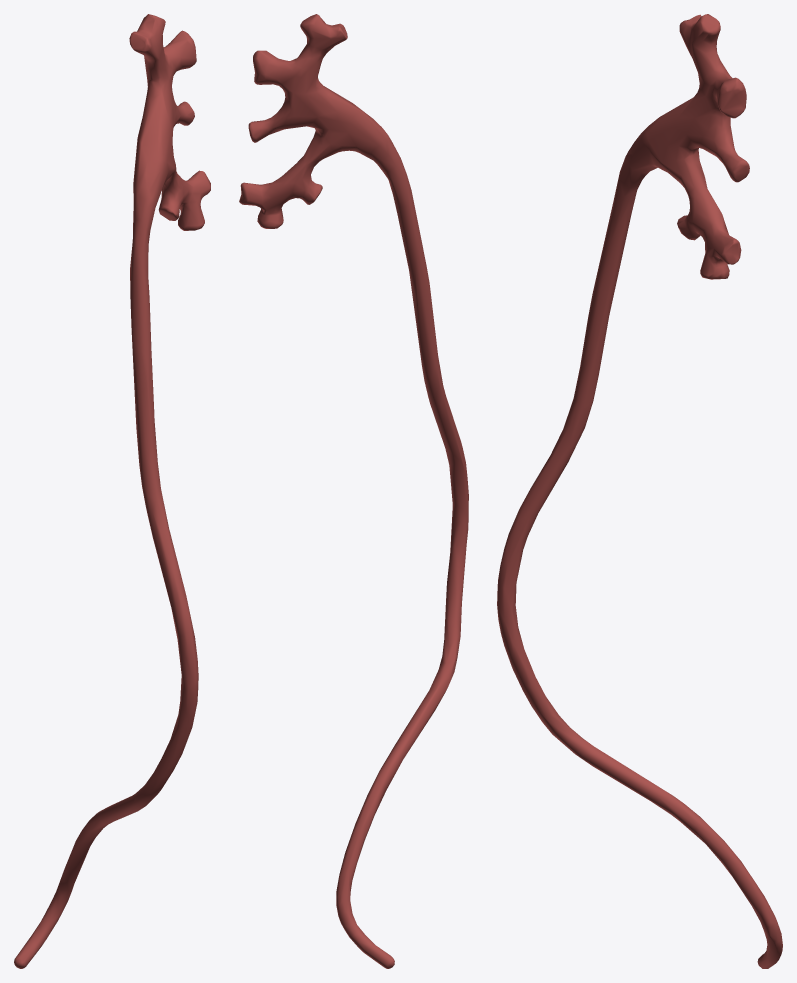
The model's file is FMA15572.glb.
The picture shows the model from 3 angles, left to right: view 1: azimuth 30°, elevation 25°; view 2: azimuth 150°, elevation 25°; view 3: azimuth 270°, elevation 25°; orthographic projection. The views are drawn at different scales.
Visible parts, largest first — view 1: FMA15572; view 2: FMA15572; view 3: FMA15572.
Part boxes in pixels (bbox=[...]): FMA15572: bbox=[14, 14, 210, 968]; FMA15572: bbox=[239, 14, 468, 968]; FMA15572: bbox=[497, 14, 782, 968].
Bounding box in the file's own units: 0.0562 × 0.2866 × 0.0737.
